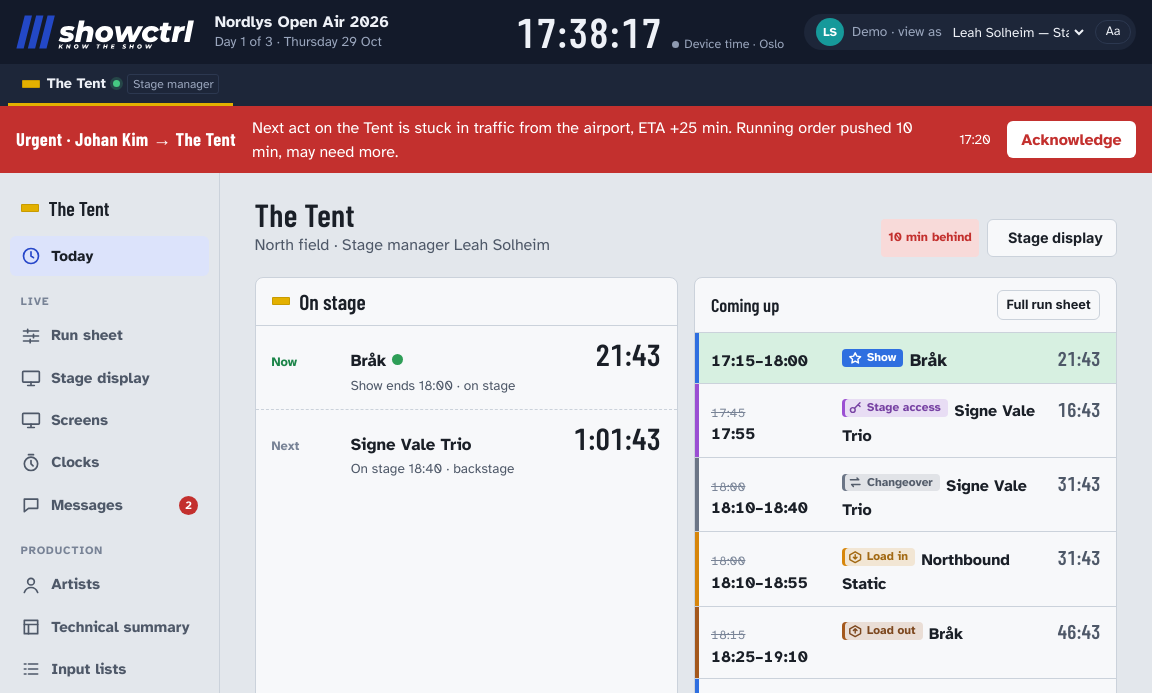
it: messages › shows an unread badge that clears when Messages opens
Expected: the text named "2 unread" is shown, [179,496,198,515]
Step 1. Click the link "Messages 2" → {"x": 110, "y": 505}, box [21,495,198,515]
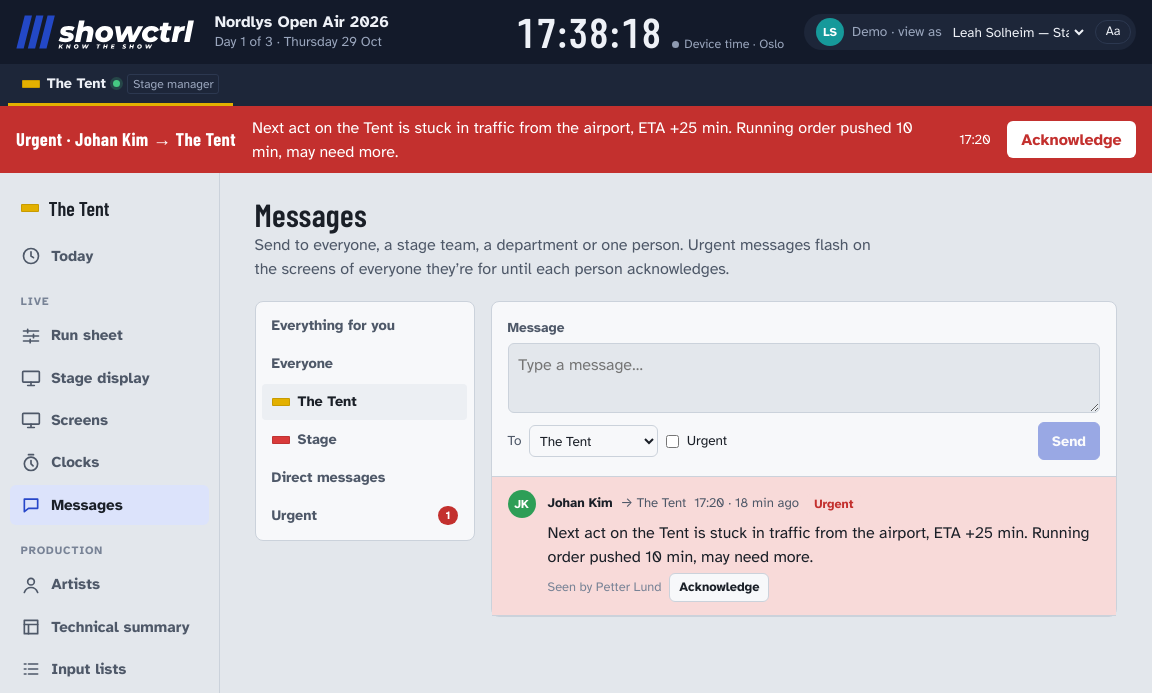
Result: the heading "Messages" is shown at [254,195,367,233]
